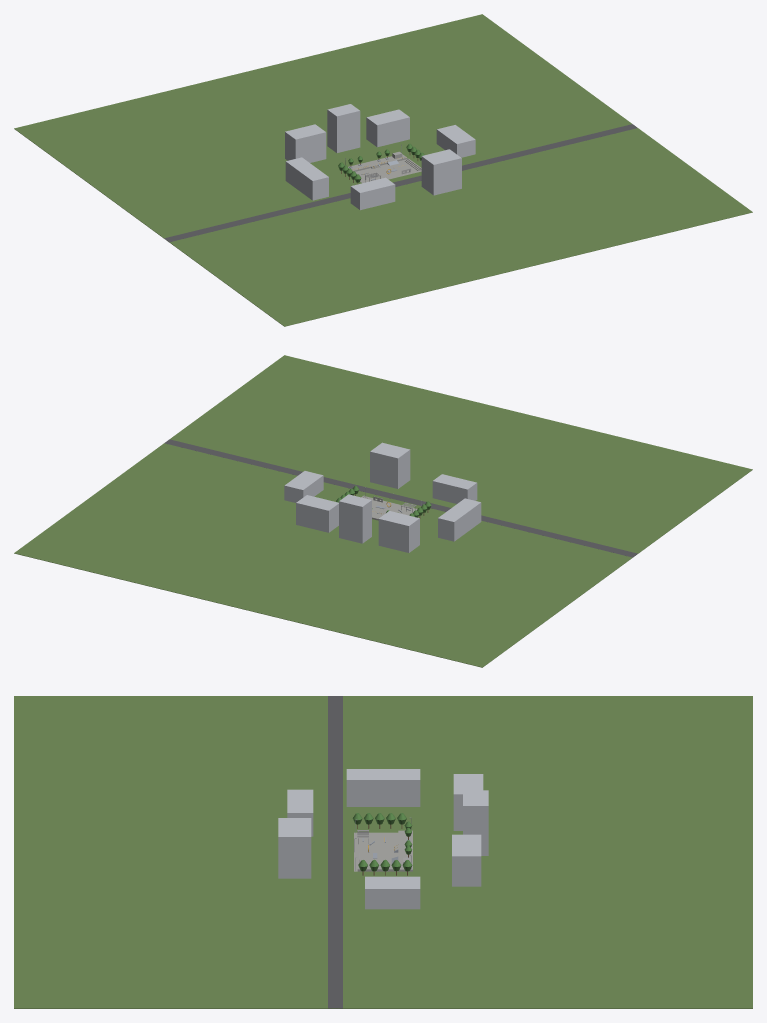
The model's file is skate_park_a.glb.
3 views of the same model, one above another, from view 1: azimuth 30°, elevation 25°; view 2: azimuth 150°, elevation 25°; view 3: azimuth 270°, elevation 25° (orthographic). The views are drawn at different scales.
Parts seen in each view (by area): view 1: far_ground, road, city_block_004, city_block_001, city_block, city_block_002, city_block_006, city_block_003, city_block_005, plaza; view 2: far_ground, road, city_block_004, city_block, city_block_001, city_block_006, city_block_002, city_block_003, city_block_005; view 3: far_ground, road, city_block_006, city_block_004, city_block_005, city_block_002, city_block_001, plaza, city_block, city_block_003.
Part boxes in pixels (x1=…): far_ground: x1=14, y1=14, x2=752, y2=326; road: x1=164, y1=124, x2=637, y2=242; city_block_004: x1=421, y1=149, x2=461, y2=195; city_block_001: x1=327, y1=104, x2=360, y2=152; city_block: x1=285, y1=124, x2=326, y2=162; city_block_002: x1=366, y1=109, x2=409, y2=147; city_block_006: x1=285, y1=157, x2=328, y2=200; city_block_003: x1=350, y1=177, x2=395, y2=210; city_block_005: x1=436, y1=125, x2=475, y2=157; plaza: x1=355, y1=159, x2=421, y2=183; far_ground: x1=14, y1=355, x2=752, y2=667; road: x1=164, y1=439, x2=637, y2=557; city_block_004: x1=370, y1=442, x2=410, y2=488; city_block: x1=378, y1=511, x2=419, y2=552; city_block_001: x1=339, y1=494, x2=371, y2=543; city_block_006: x1=438, y1=498, x2=481, y2=541; city_block_002: x1=296, y1=495, x2=338, y2=532; city_block_003: x1=432, y1=474, x2=477, y2=503; city_block_005: x1=284, y1=471, x2=323, y2=502; far_ground: x1=14, y1=696, x2=752, y2=1008; road: x1=328, y1=696, x2=342, y2=1008; city_block_006: x1=346, y1=769, x2=420, y2=806; city_block_004: x1=278, y1=818, x2=311, y2=878; city_block_005: x1=365, y1=876, x2=420, y2=909; city_block_002: x1=452, y1=834, x2=481, y2=886; city_block_001: x1=463, y1=790, x2=488, y2=855; plaza: x1=354, y1=832, x2=398, y2=871; city_block: x1=453, y1=774, x2=483, y2=830; city_block_003: x1=287, y1=789, x2=313, y2=836.
Bounding box in the file's own units: 400 × 30.35 × 400.
